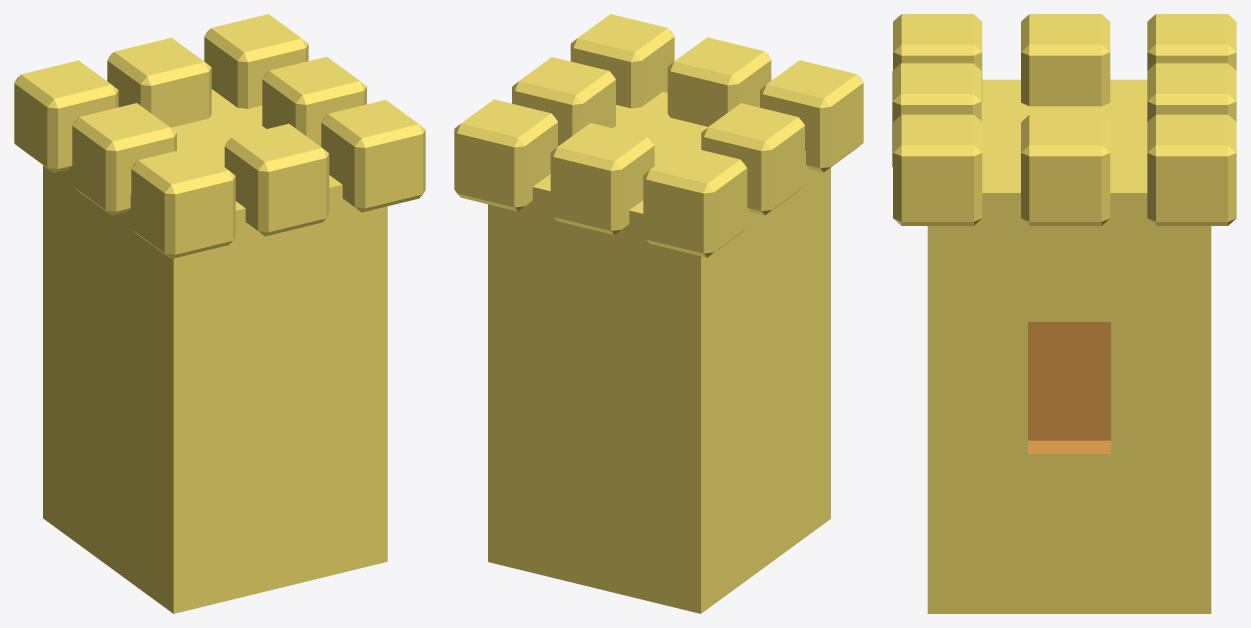
The model's file is SandTowerfbx.fbx.
3 renders of one model, left to right at view 1: azimuth 30°, elevation 25°; view 2: azimuth 150°, elevation 25°; view 3: azimuth 270°, elevation 25°, orthographic. The views are drawn at different scales.
Visible parts, largest first — view 1: Cube.006; view 2: Cube.006; view 3: Cube.006.
Boxes of the visible parts, x1,y1,x2,y2 form: Cube.006: (14, 14, 425, 613); Cube.006: (454, 14, 863, 613); Cube.006: (892, 14, 1236, 613).
Size of the model in its own units: 181 by 292 by 190.
